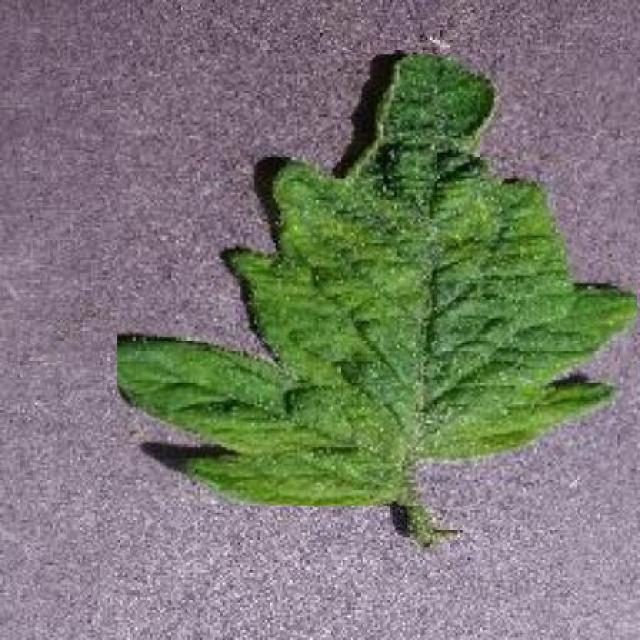Mosaic Virus: (117, 55, 637, 505)
